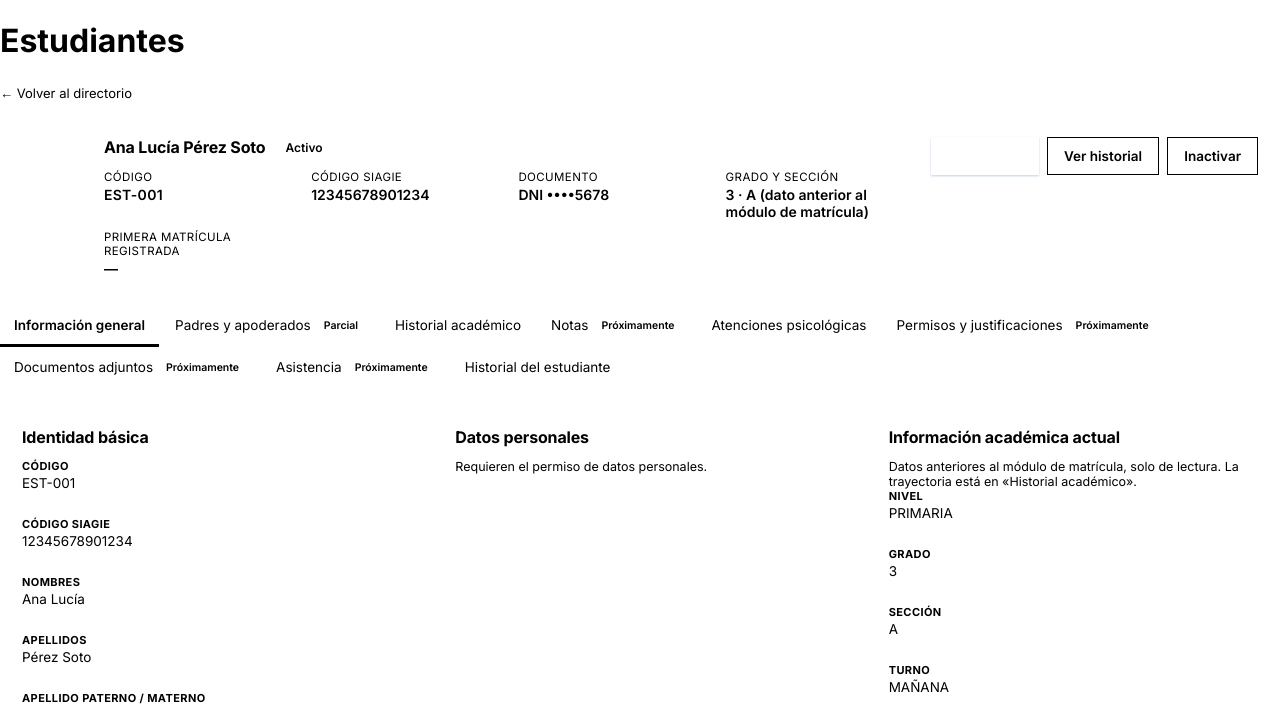
Test: Editar estudiante › sin cambios no envía nada
Expected: the heading "Identidad básica" is shown, x1=22 y1=427 x2=149 y2=447
Click the button "Editar ficha": (985, 156) x1=931 y1=137 x2=1039 y2=175
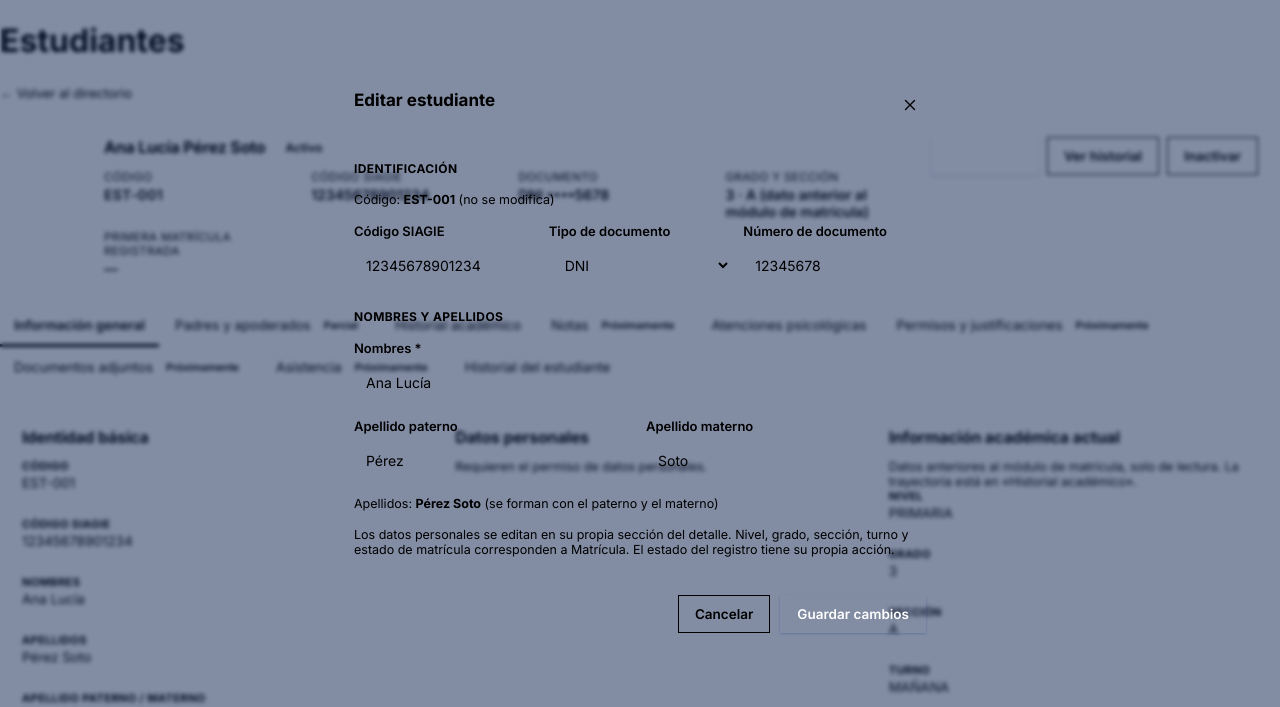
Click the button "Guardar cambios": (853, 614) x1=780 y1=595 x2=926 y2=633
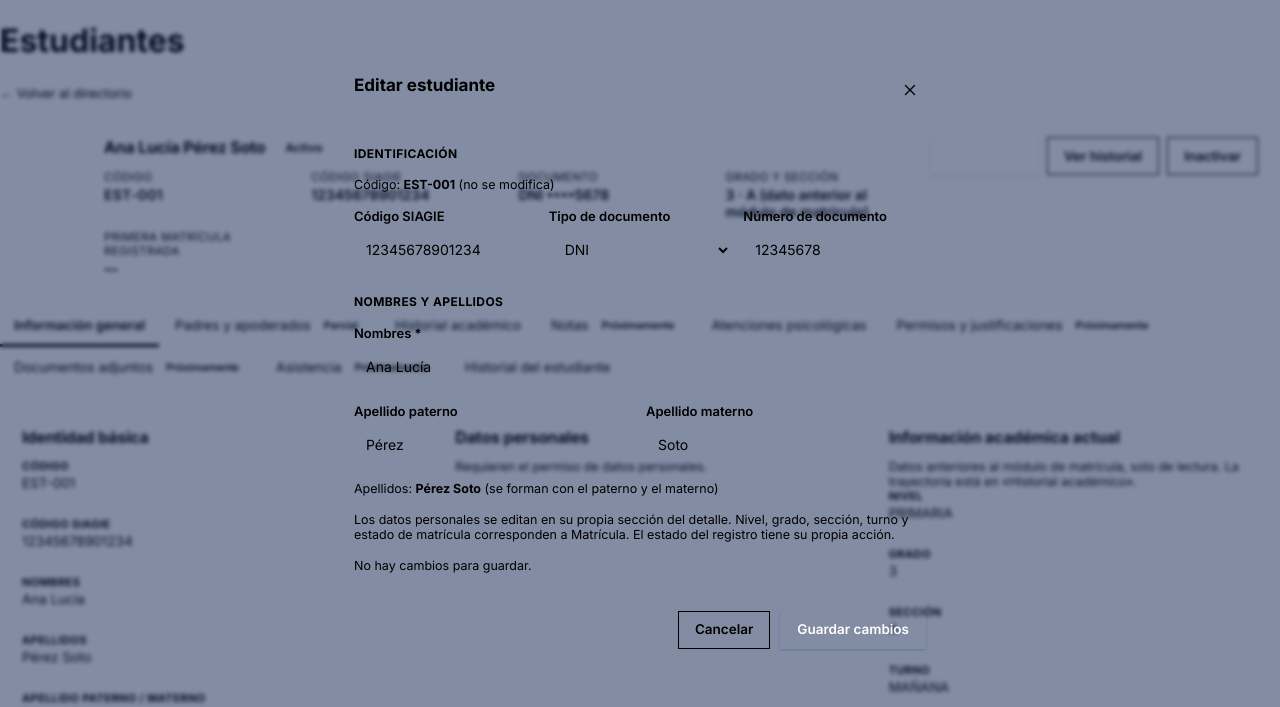
Expected: the text "No hay cambios para guardar." is shown, x1=354 y1=558 x2=532 y2=572
